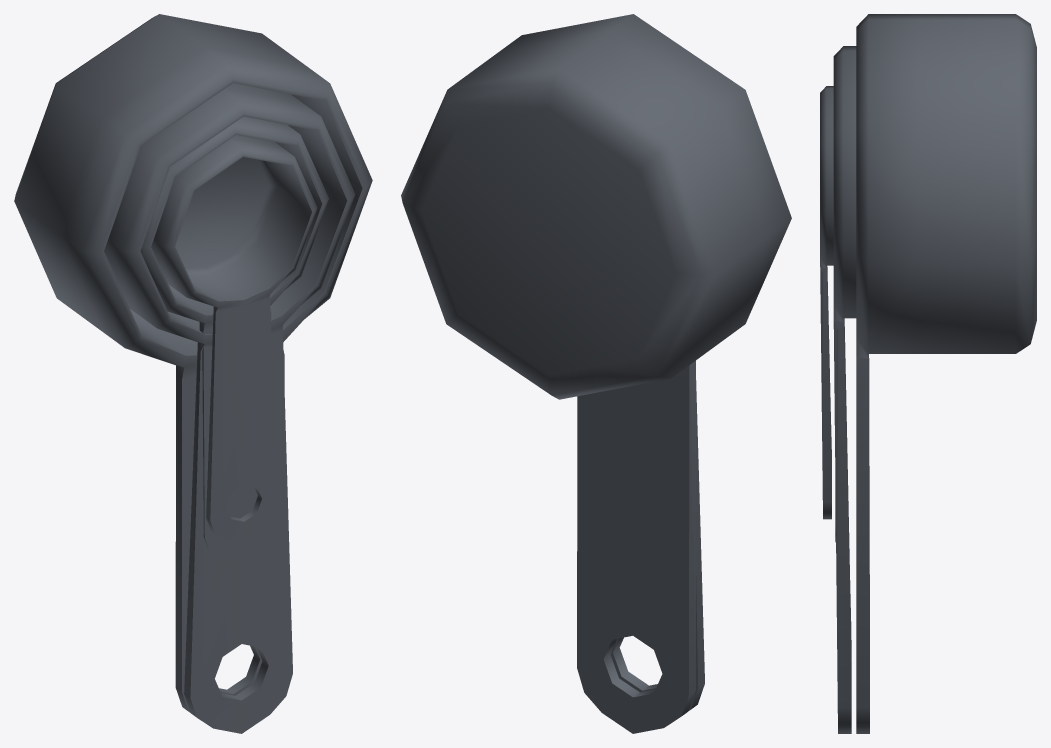
Rendered from Measuring Spoons.glb.
The picture shows the model from 3 angles, left to right: view 1: azimuth 30°, elevation 25°; view 2: azimuth 150°, elevation 25°; view 3: azimuth 270°, elevation 25°; orthographic projection. The views are drawn at different scales.
Visible parts, largest first — view 1: mspoon_measuring_spoon_stack_large_Cylinder.042; view 2: mspoon_measuring_spoon_stack_large_Cylinder.042; view 3: mspoon_measuring_spoon_stack_large_Cylinder.042.
Boxes of the visible parts, <box> form: mspoon_measuring_spoon_stack_large_Cylinder.042: <box>14,14,372,733</box>; mspoon_measuring_spoon_stack_large_Cylinder.042: <box>401,14,791,733</box>; mspoon_measuring_spoon_stack_large_Cylinder.042: <box>820,14,1036,733</box>.
Bounding box in the file's own units: 1.62 × 3.52 × 0.9705.
1 material, 1 textured.
